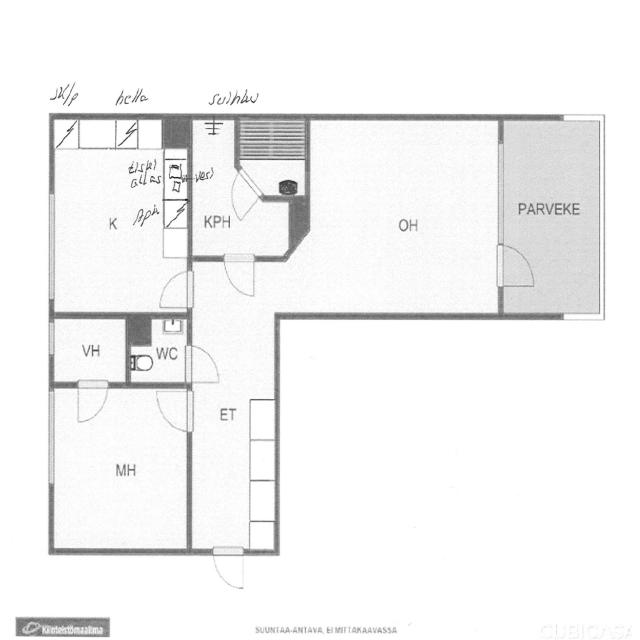door: (494, 238, 539, 293), (151, 385, 196, 434), (182, 338, 224, 387), (210, 542, 248, 594), (220, 250, 258, 301), (156, 266, 197, 312), (74, 381, 110, 426), (230, 175, 261, 226)
window: (40, 186, 62, 305), (491, 135, 512, 249), (43, 390, 59, 489), (44, 315, 59, 362)
zone: (314, 111, 498, 318), (52, 110, 188, 320), (190, 257, 278, 551), (51, 384, 190, 552), (189, 117, 312, 260), (50, 315, 129, 384), (127, 313, 190, 387), (74, 380, 111, 427)
